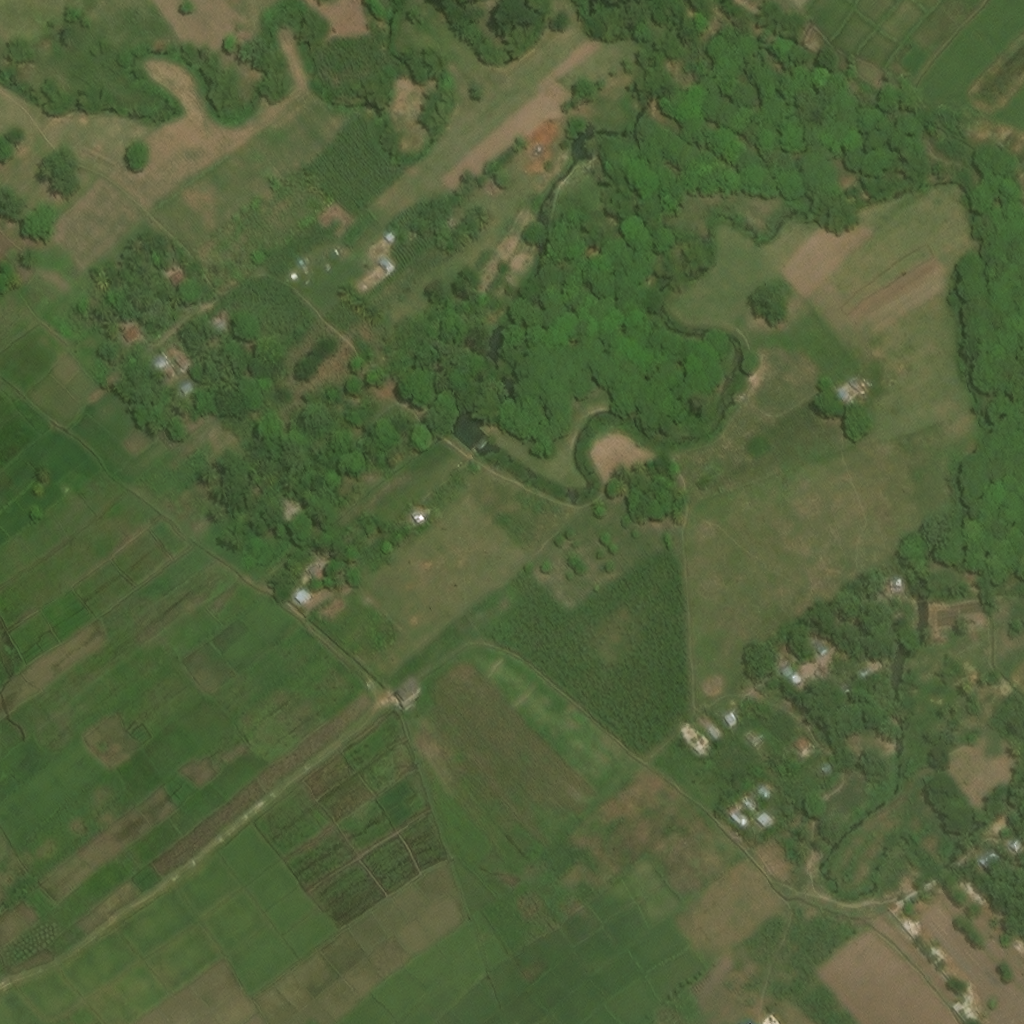major_damage: (737, 804, 748, 815)
minor_damage: (793, 734, 813, 753), (150, 353, 167, 370), (748, 792, 763, 807), (812, 638, 827, 653), (798, 757, 808, 766)
no_damage: (399, 687, 426, 713), (170, 269, 190, 290), (307, 560, 325, 579), (278, 496, 298, 513), (735, 815, 751, 832), (176, 376, 192, 392), (778, 662, 793, 676), (725, 713, 738, 726), (213, 317, 227, 329), (124, 326, 135, 336), (289, 267, 297, 275)
unclassified: (770, 772, 786, 788), (815, 665, 826, 677)
